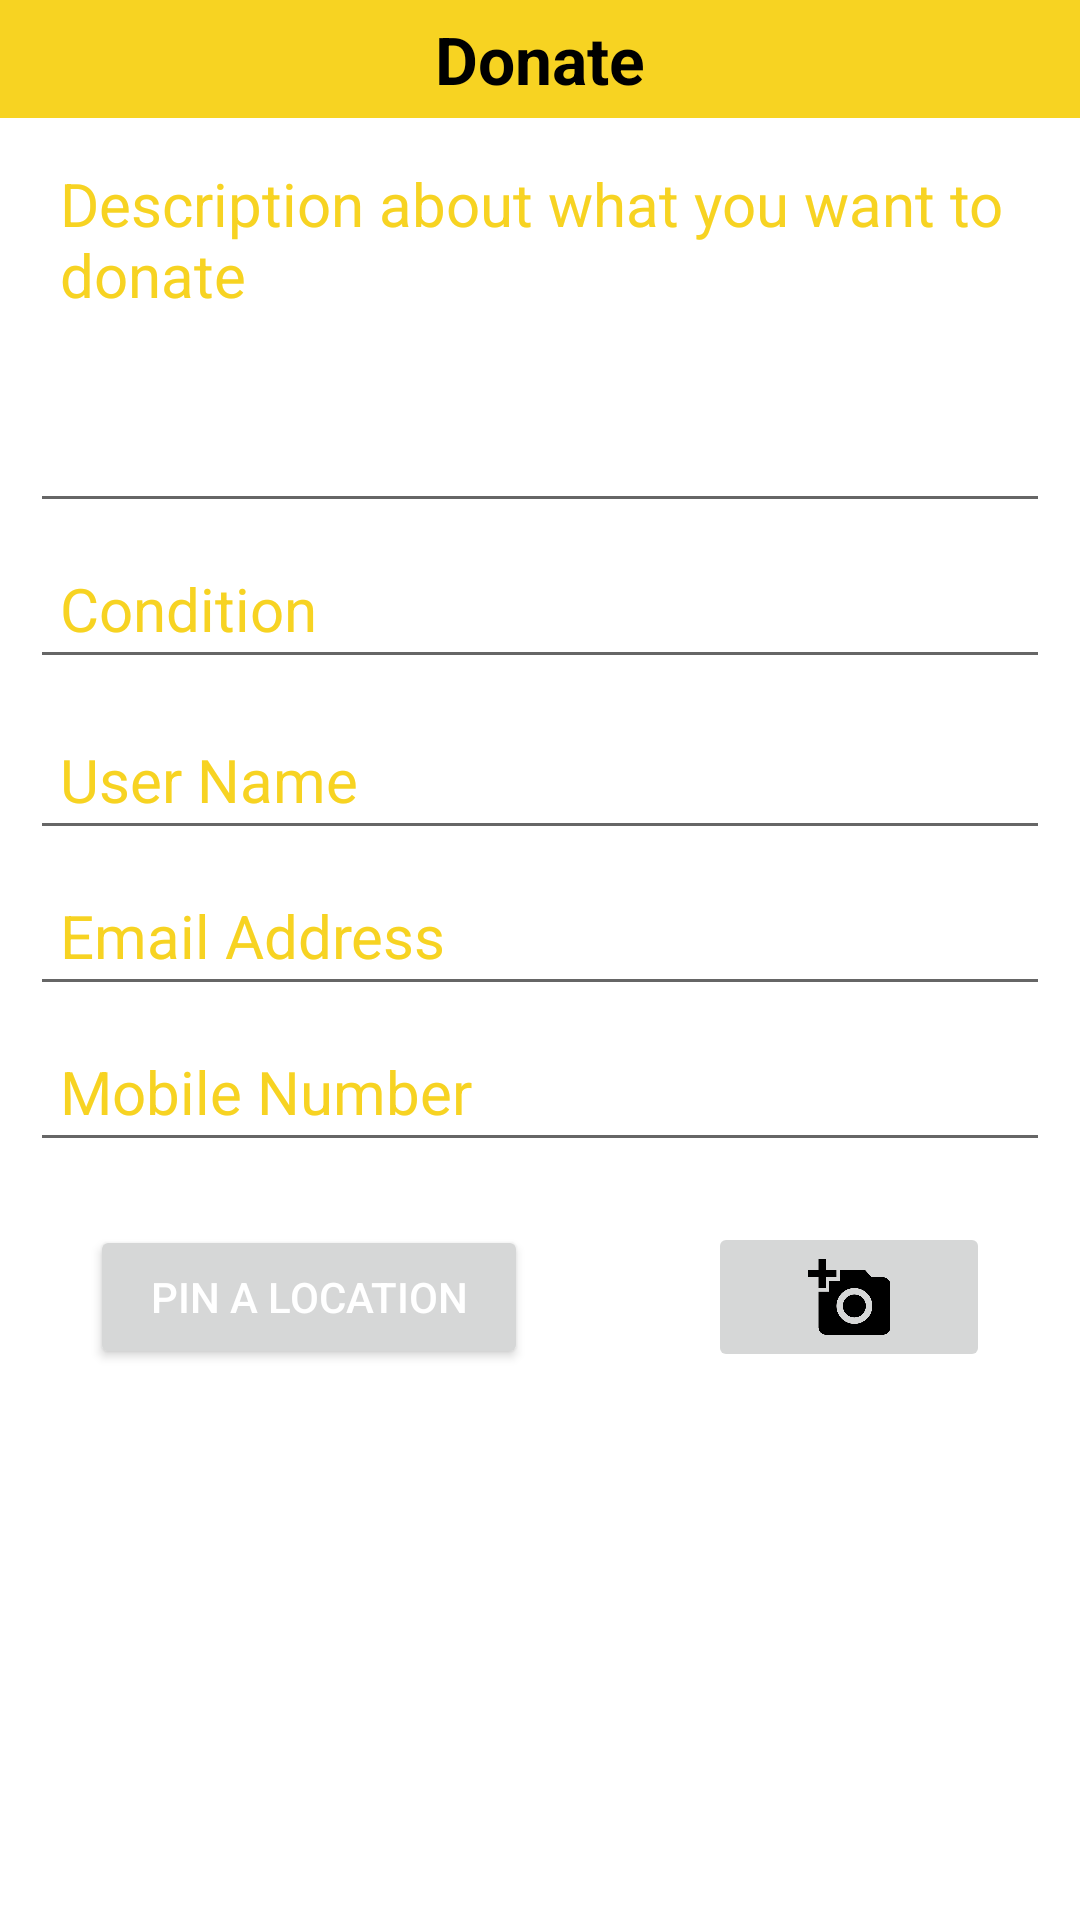

Icons on this 1080 × 1920 Android screen, each with the point to tap as (x=x, y=y):
add pic: (x=849, y=1297)
